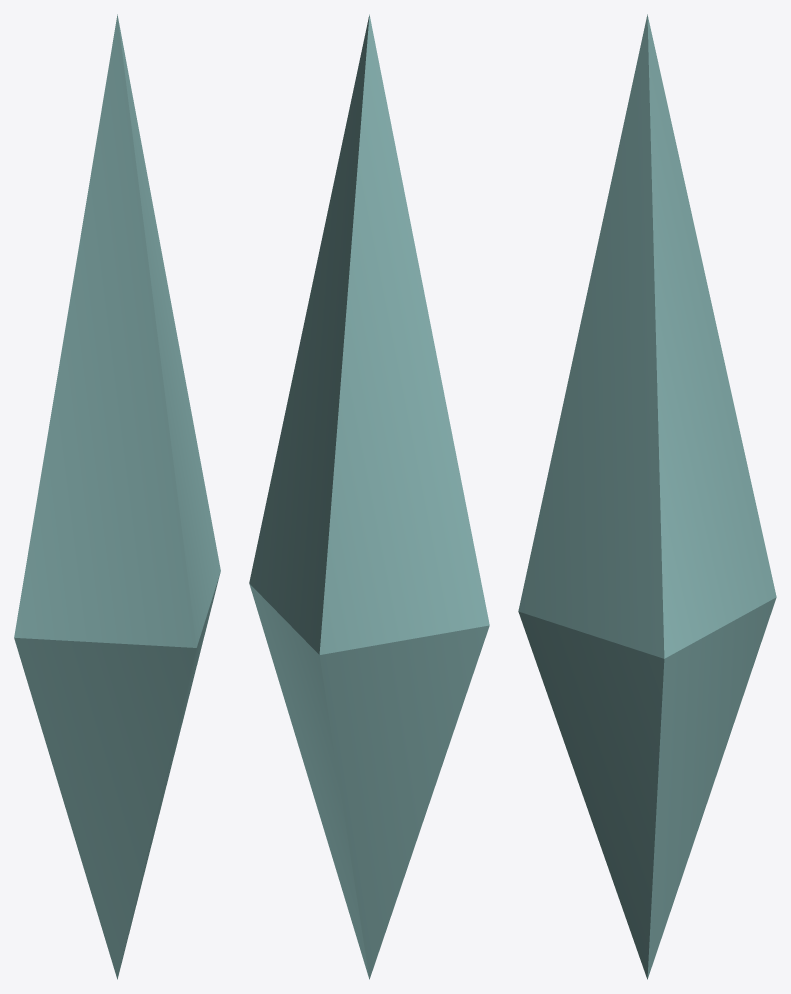
The model's file is Sucrose_LargeWindSpiritPulse_Cryo_WindLightMote.fbx.
3 views of the same model, side by side, from view 1: azimuth 30°, elevation 25°; view 2: azimuth 150°, elevation 25°; view 3: azimuth 270°, elevation 25° (orthographic).
Visible parts, largest first — view 1: PART_FineWindLightMote; view 2: PART_FineWindLightMote; view 3: PART_FineWindLightMote.
Boxes of the visible parts, box(x1,y1,x2,y2) form: PART_FineWindLightMote: box(14, 14, 220, 979); PART_FineWindLightMote: box(249, 14, 489, 979); PART_FineWindLightMote: box(518, 14, 776, 979).
Bounding box in the file's own units: 4.36 × 18 × 4.36.
